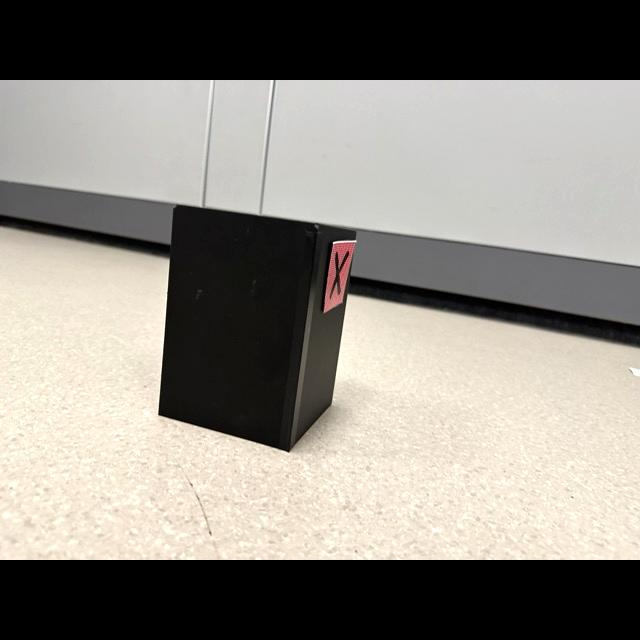X: (329, 251, 349, 300)
